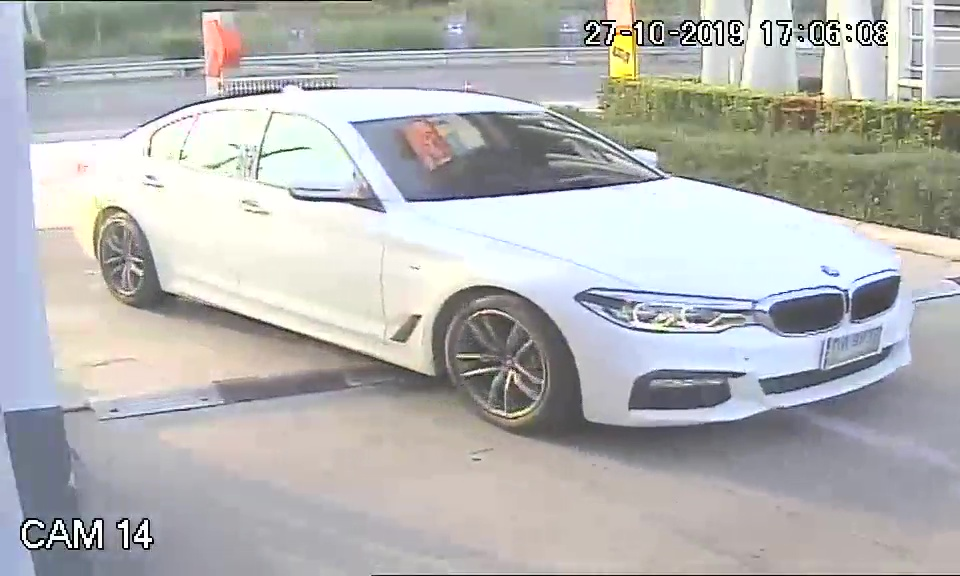sedan: (70, 83, 915, 436)
